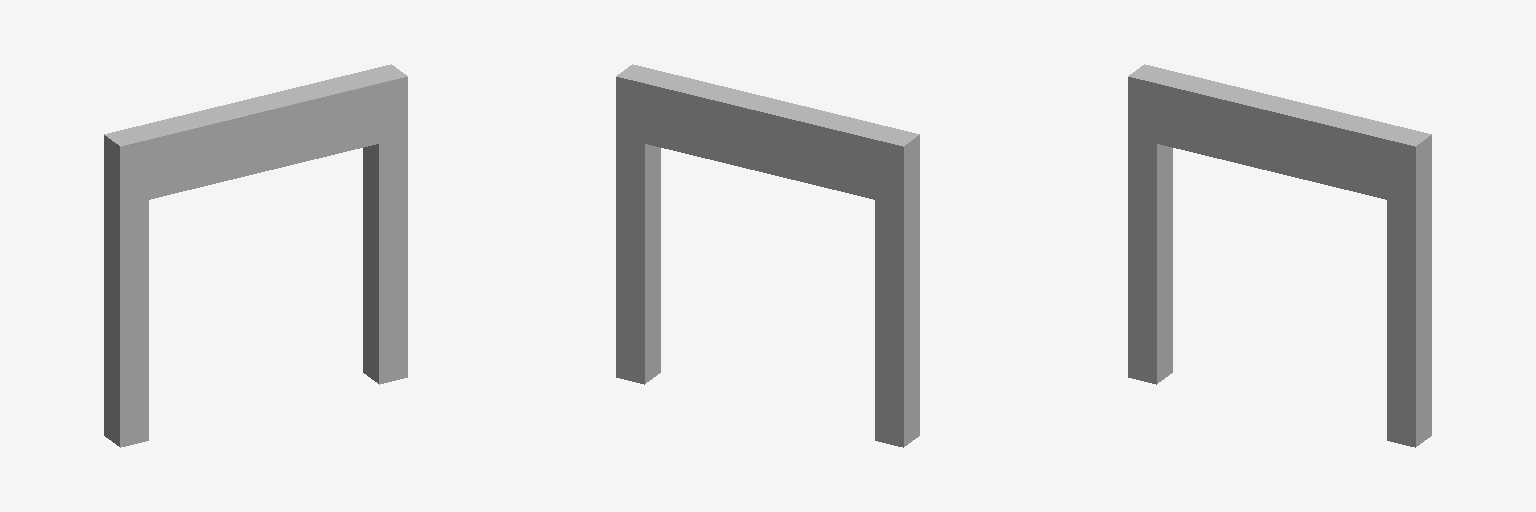
File: TileFeatureArch.obj
3 renders of one model, left to right at view 1: azimuth 30°, elevation 25°; view 2: azimuth 150°, elevation 25°; view 3: azimuth 330°, elevation 25°, orthographic.
Visible parts, largest first — view 1: TileFeatureArch; view 2: TileFeatureArch; view 3: TileFeatureArch.
Boxes of the visible parts, box(x1,y1,x2,y2) form: TileFeatureArch: box(104, 64, 407, 447); TileFeatureArch: box(616, 64, 919, 447); TileFeatureArch: box(1128, 64, 1431, 447).
Size of the model in its own units: 10 by 10 by 1.